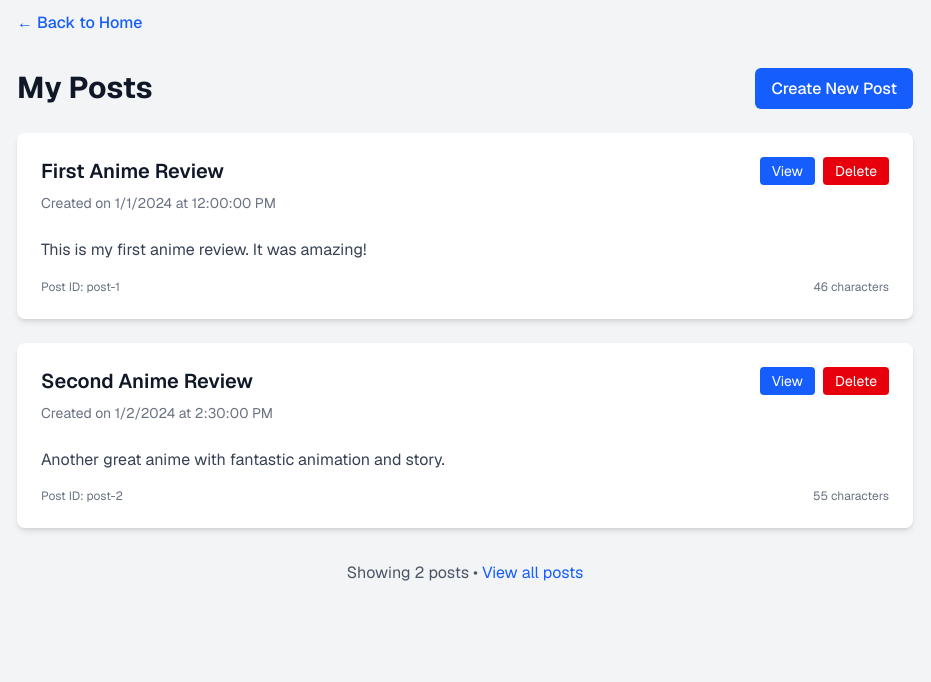
MyPosts › Post Deletion › handles deletion error
Click the 1st button "Delete" at (856, 171), box [823,157,889,185]
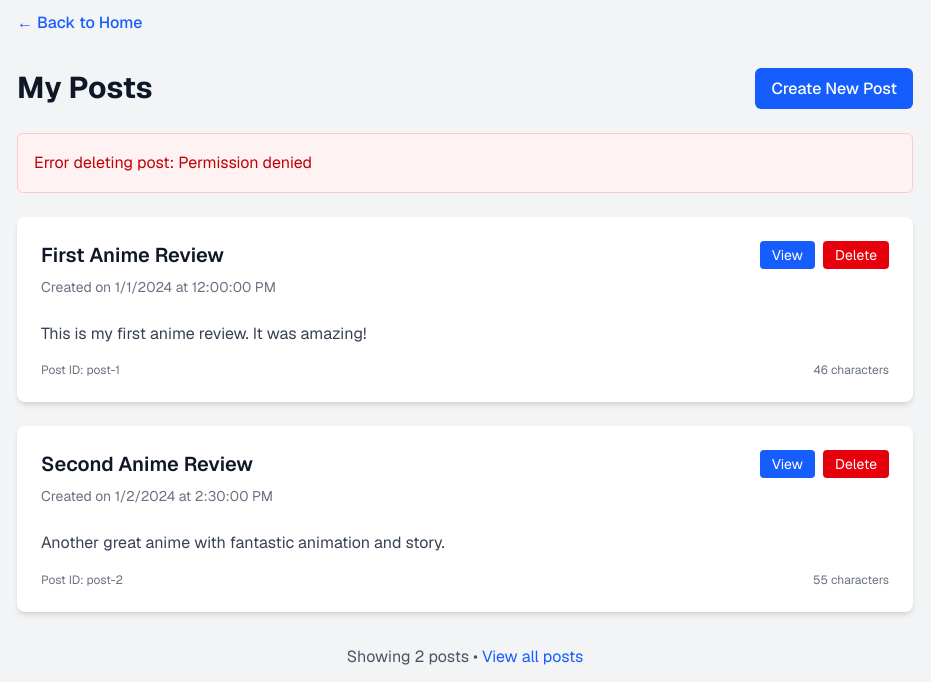
Expected: the text "Error deleting post: Permission denied" is shown, [34,152,312,173]
